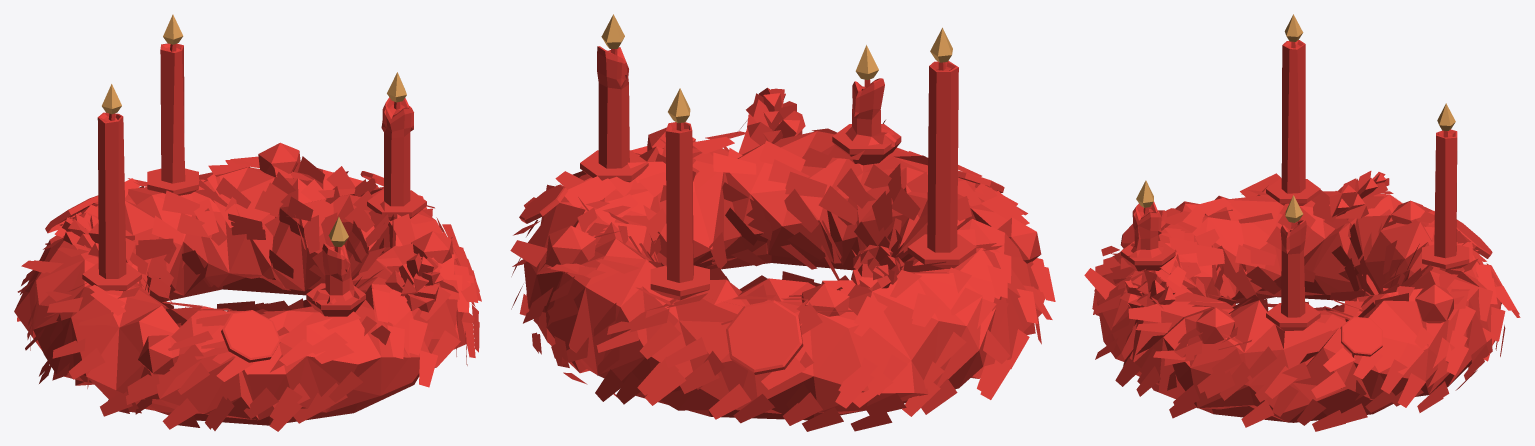
Rendered from SM_Wreath_Advent_B.fbx.
3 views of the same model, side by side, from view 1: azimuth 30°, elevation 25°; view 2: azimuth 150°, elevation 25°; view 3: azimuth 270°, elevation 25° (orthographic). The views are drawn at different scales.
Parts seen in each view (by area): view 1: wreath-advent-b; view 2: wreath-advent-b; view 3: wreath-advent-b.
Boxes of the visible parts, x1,y1,x2,y2 form: wreath-advent-b: (14, 14, 481, 431); wreath-advent-b: (510, 14, 1055, 431); wreath-advent-b: (1084, 14, 1520, 431).
Size of the model in its own units: 0.5754 by 0.3977 by 0.5667.
